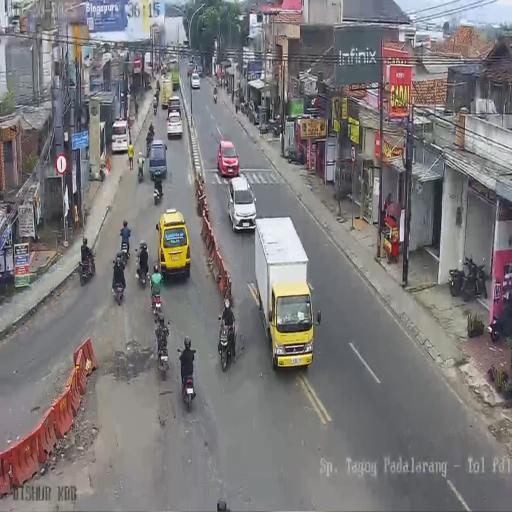3: (256, 216, 315, 369), (171, 68, 179, 91), (186, 63, 193, 76)
car: (156, 209, 190, 281), (226, 175, 257, 232), (216, 139, 240, 177), (148, 140, 168, 179), (112, 118, 130, 154), (167, 112, 183, 140), (168, 95, 181, 115), (190, 73, 200, 89), (195, 65, 203, 77)
truck: (217, 313, 237, 373), (461, 254, 485, 300), (492, 290, 512, 342), (178, 356, 196, 409), (155, 330, 170, 378), (78, 248, 96, 285), (150, 286, 164, 319), (285, 143, 305, 165), (136, 251, 148, 286), (113, 272, 125, 306), (118, 239, 130, 266), (267, 114, 281, 136), (152, 178, 162, 205), (258, 119, 269, 135), (137, 159, 144, 183), (152, 95, 158, 115), (240, 100, 247, 116), (213, 89, 217, 103)
